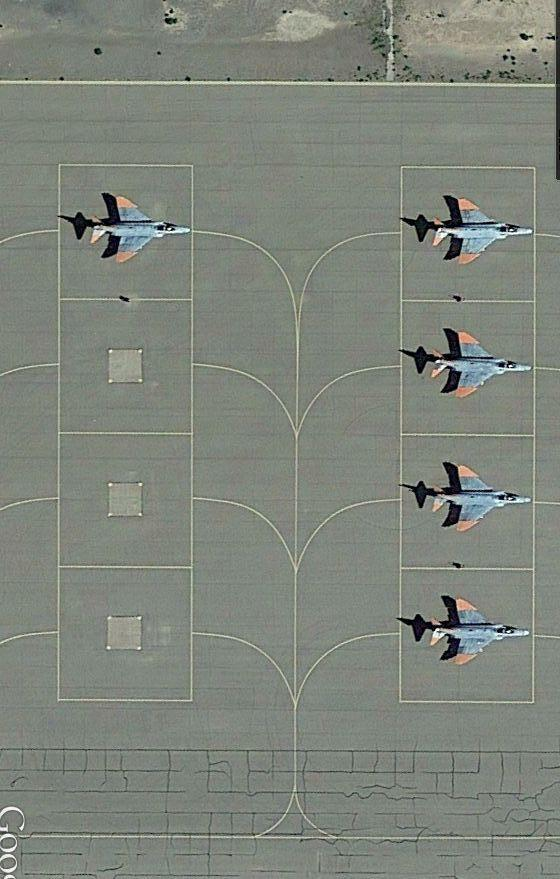plane: (424, 596, 538, 673), (420, 194, 537, 269), (422, 462, 534, 536), (85, 191, 192, 265), (425, 332, 535, 400)
